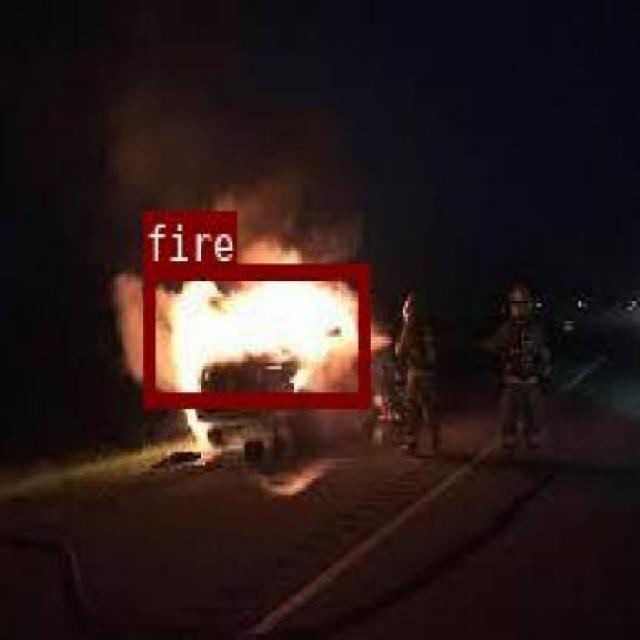Fire: (143, 264, 366, 404)
